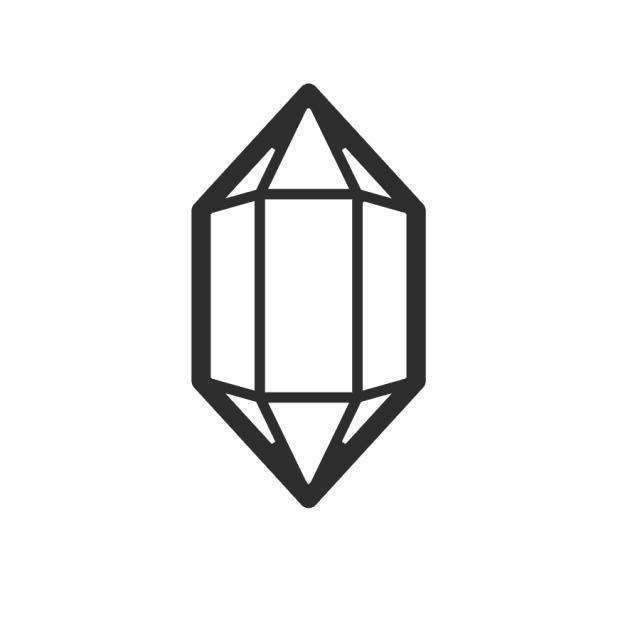crystal: (183, 77, 436, 515)
